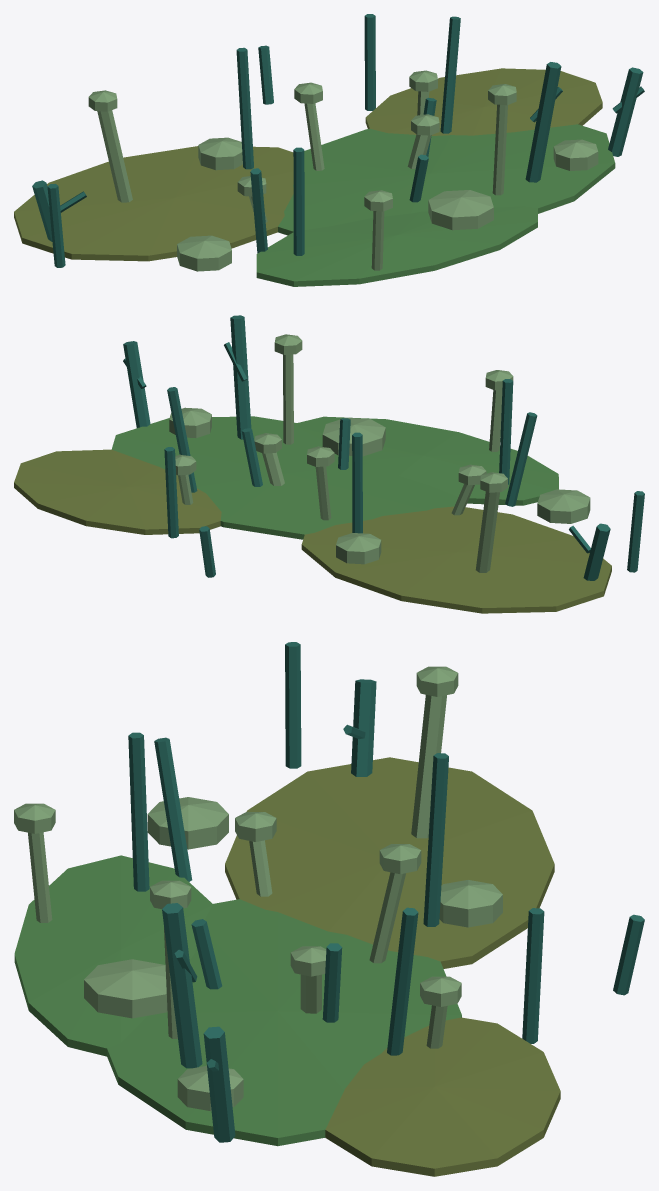
Rendered from vegetation_mat_a.obj.
3 renders of one model, top to bottom at view 1: azimuth 30°, elevation 25°; view 2: azimuth 150°, elevation 25°; view 3: azimuth 270°, elevation 25°, orthographic. The views are drawn at different scales.
Visible parts, largest first — view 1: mat_0, mat_1, mat_3, mat_2, filter_cup_2, filter_16, filter_cup_0, filter_12, filter_7, filter_5, filter_8, filter_cup_1 (+18 smaller); view 2: mat_0, mat_1, mat_2, mat_3, filter_16, filter_cup_0, filter_cup_2, filter_cup_1, filter_8, filter_12, filter_7, filter_14 (+18 smaller); view 3: mat_1, mat_0, mat_2, mat_3, filter_cup_2, filter_16, filter_7, filter_cup_0, filter_12, filter_cup_1, filter_14, filter_5 (+20 smaller).
Part boxes in pixels (x1,y1,x2,y2): mat_0: (14, 146, 293, 261); mat_1: (278, 124, 615, 235); mat_3: (256, 206, 537, 286); mat_2: (365, 68, 602, 135); filter_cup_2: (428, 190, 493, 230); filter_16: (525, 62, 561, 182); filter_cup_0: (177, 235, 231, 271); filter_12: (97, 110, 132, 202); filter_7: (236, 47, 253, 169); filter_5: (440, 16, 460, 133); filter_8: (608, 67, 643, 156); filter_cup_1: (198, 137, 242, 170); mat_0: (301, 506, 611, 613); mat_1: (111, 416, 458, 539); mat_2: (14, 449, 221, 534); mat_3: (297, 416, 558, 505); filter_16: (230, 315, 251, 439); filter_cup_0: (537, 489, 590, 523); filter_cup_2: (322, 417, 385, 456); filter_cup_1: (336, 533, 381, 564); filter_8: (123, 341, 150, 427); filter_12: (475, 491, 499, 572); filter_7: (352, 432, 362, 533); filter_14: (499, 379, 513, 484); mat_1: (107, 899, 461, 1146); mat_0: (225, 757, 554, 968); mat_2: (325, 1017, 560, 1176); mat_3: (14, 855, 212, 1056); filter_cup_2: (84, 959, 167, 1018); filter_16: (162, 903, 202, 1068); filter_7: (423, 753, 448, 926); filter_cup_0: (147, 797, 228, 849); filter_12: (411, 695, 446, 838); filter_cup_1: (439, 880, 502, 927); filter_14: (128, 732, 149, 891); filter_5: (387, 907, 418, 1055).
Bounding box in the file's own units: 8.81 × 1.79 × 5.64.
